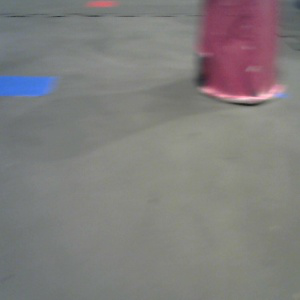Right: (194, 1, 286, 103)
